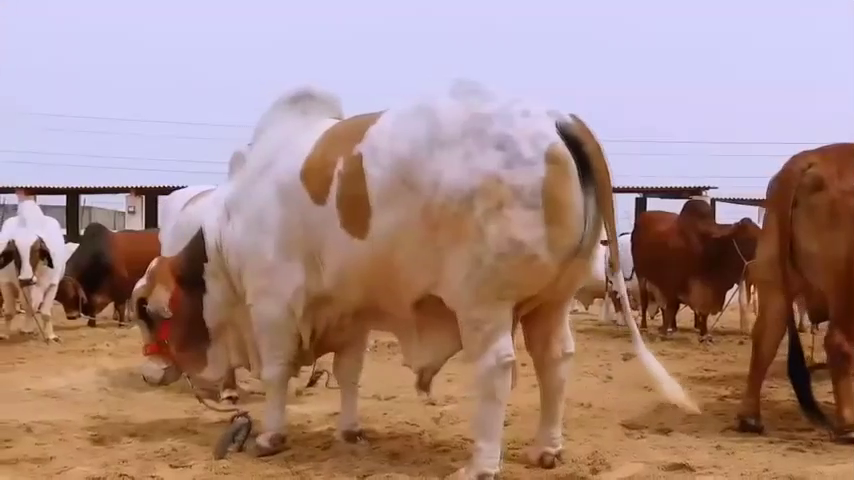bo: (106, 80, 721, 478), (724, 115, 854, 460), (632, 192, 762, 342), (56, 193, 172, 337), (2, 183, 69, 350), (597, 218, 635, 329)
